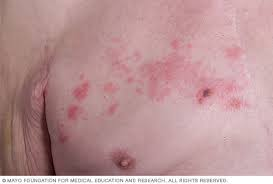herpes: (73, 72, 268, 125)
